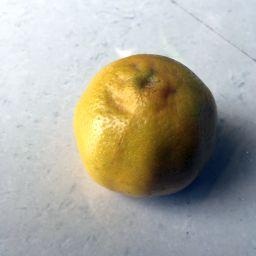Ripe: (76, 55, 218, 193)
